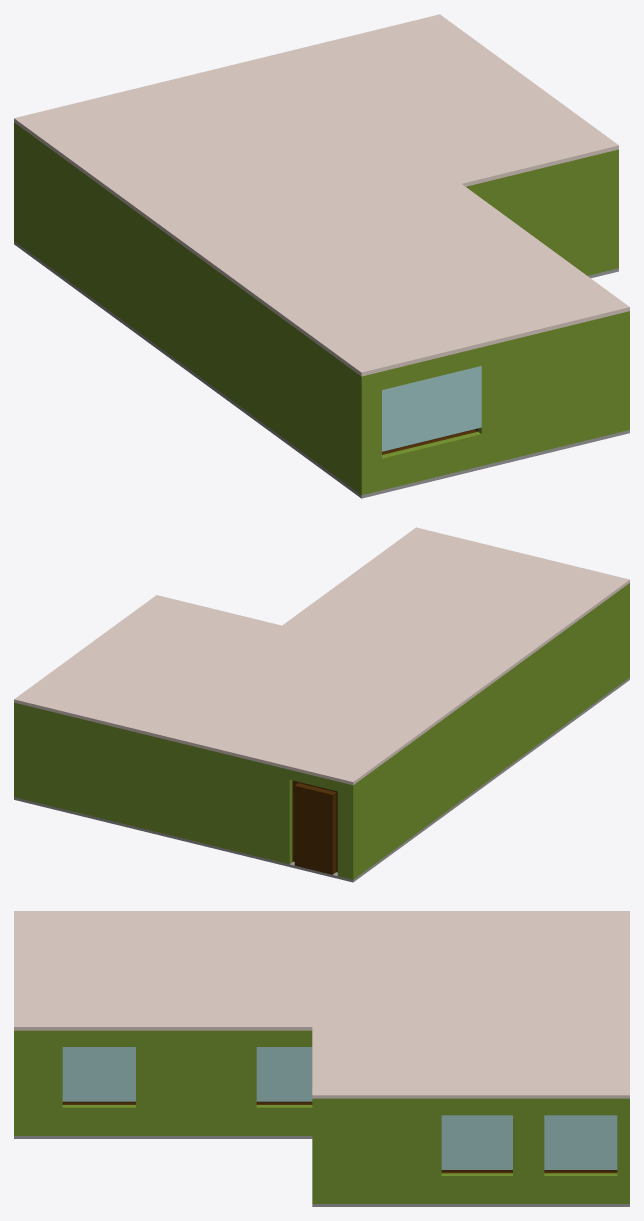
Rendered from apartment_v4003.fbx.
3 views of the same model, one above another, from view 1: azimuth 30°, elevation 25°; view 2: azimuth 150°, elevation 25°; view 3: azimuth 270°, elevation 25° (orthographic). The views are drawn at different scales.
Parts seen in each view (by area): view 1: _ceiling, _walls, _windows, _floor; view 2: _ceiling, _walls, _wood, _floor; view 3: _ceiling, _walls, _windows, _floor, _wood.
Part boxes in pixels (bbox=[...]): _ceiling: bbox=[14, 14, 629, 376]; _walls: bbox=[14, 122, 629, 495]; _windows: bbox=[382, 366, 481, 451]; _floor: bbox=[14, 241, 629, 498]; _ceiling: bbox=[14, 527, 629, 785]; _walls: bbox=[14, 583, 629, 879]; _wood: bbox=[292, 780, 337, 874]; _floor: bbox=[14, 677, 629, 882]; _ceiling: bbox=[14, 911, 629, 1098]; _walls: bbox=[14, 1030, 629, 1203]; _windows: bbox=[62, 1047, 617, 1169]; _floor: bbox=[14, 1136, 629, 1206]; _wood: bbox=[62, 1101, 617, 1173].
Bounding box in the file's own units: 18.02 × 5.1 × 25.46.
